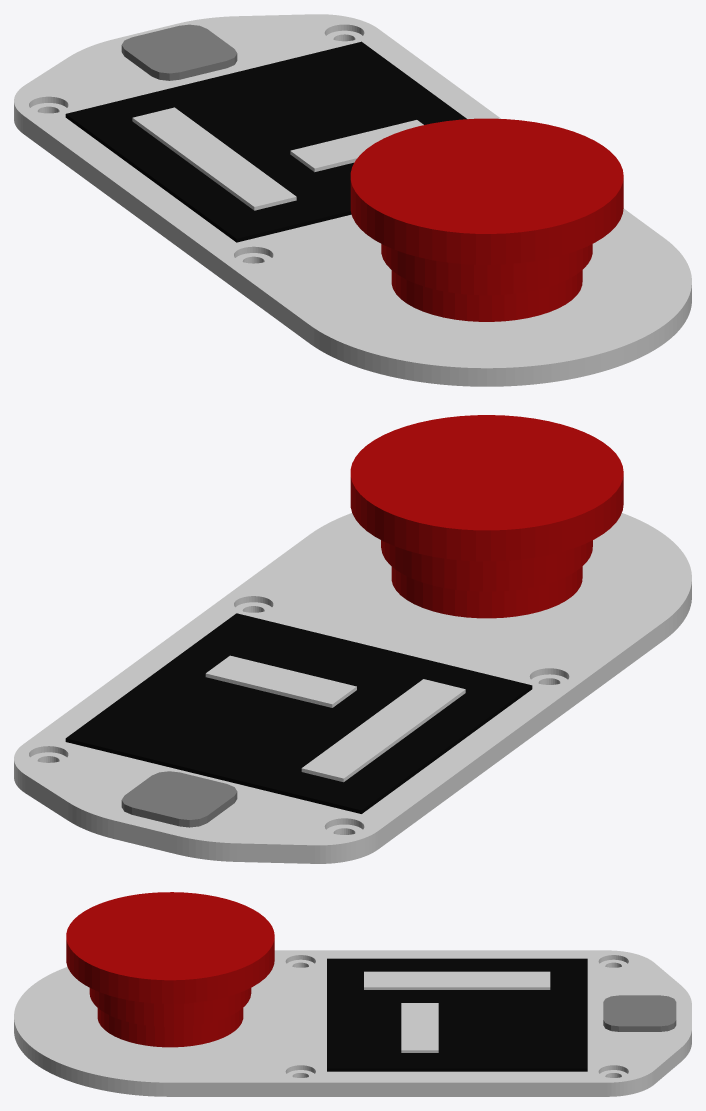
File: ERC2022_button_ID4.dae
3 renders of one model, top to bottom at view 1: azimuth 30°, elevation 25°; view 2: azimuth 150°, elevation 25°; view 3: azimuth 270°, elevation 25°, orthographic. The views are drawn at different scales.
Visible parts, largest first — view 1: ERC2022 grzyb white ID4, ERC2022 grzyb red, ERC2022 grzyb black, ERC2022 grzyb green; view 2: ERC2022 grzyb white ID4, ERC2022 grzyb red, ERC2022 grzyb black, ERC2022 grzyb green; view 3: ERC2022 grzyb white ID4, ERC2022 grzyb red, ERC2022 grzyb black, ERC2022 grzyb green.
Boxes of the visible parts, x1,y1,x2,y2 form: ERC2022 grzyb white ID4: (14, 14, 691, 386); ERC2022 grzyb red: (350, 118, 623, 321); ERC2022 grzyb black: (65, 41, 467, 242); ERC2022 grzyb green: (121, 24, 237, 80); ERC2022 grzyb white ID4: (14, 513, 691, 863); ERC2022 grzyb red: (350, 415, 623, 618); ERC2022 grzyb black: (65, 613, 532, 813); ERC2022 grzyb green: (121, 771, 237, 827); ERC2022 grzyb white ID4: (14, 950, 691, 1096); ERC2022 grzyb red: (66, 892, 274, 1047); ERC2022 grzyb black: (327, 958, 587, 1071); ERC2022 grzyb green: (603, 995, 676, 1031).
Size of the model in its own units: 60 by 130 by 20.
